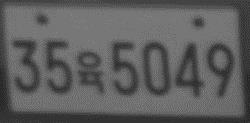0: (143, 41, 171, 97)
3: (11, 39, 39, 92)
4: (173, 41, 206, 98)
5: (111, 42, 139, 95), (46, 39, 72, 93)
9: (206, 42, 236, 97)
육: (77, 51, 106, 94)
